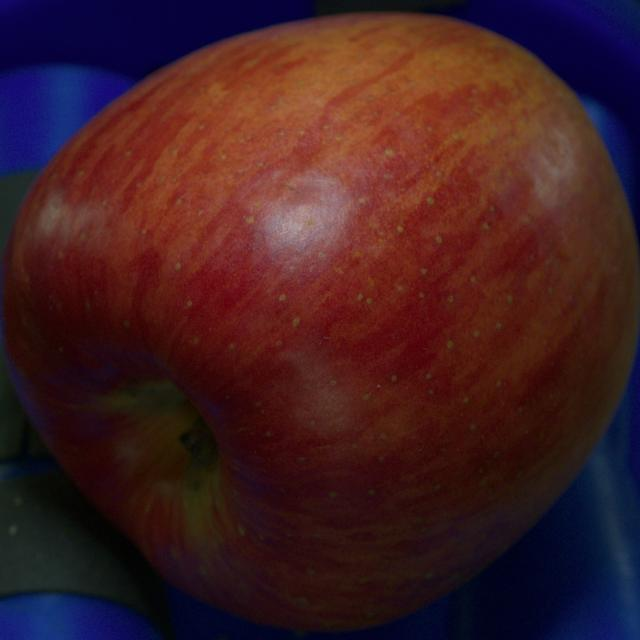apple: (0, 14, 639, 632)
